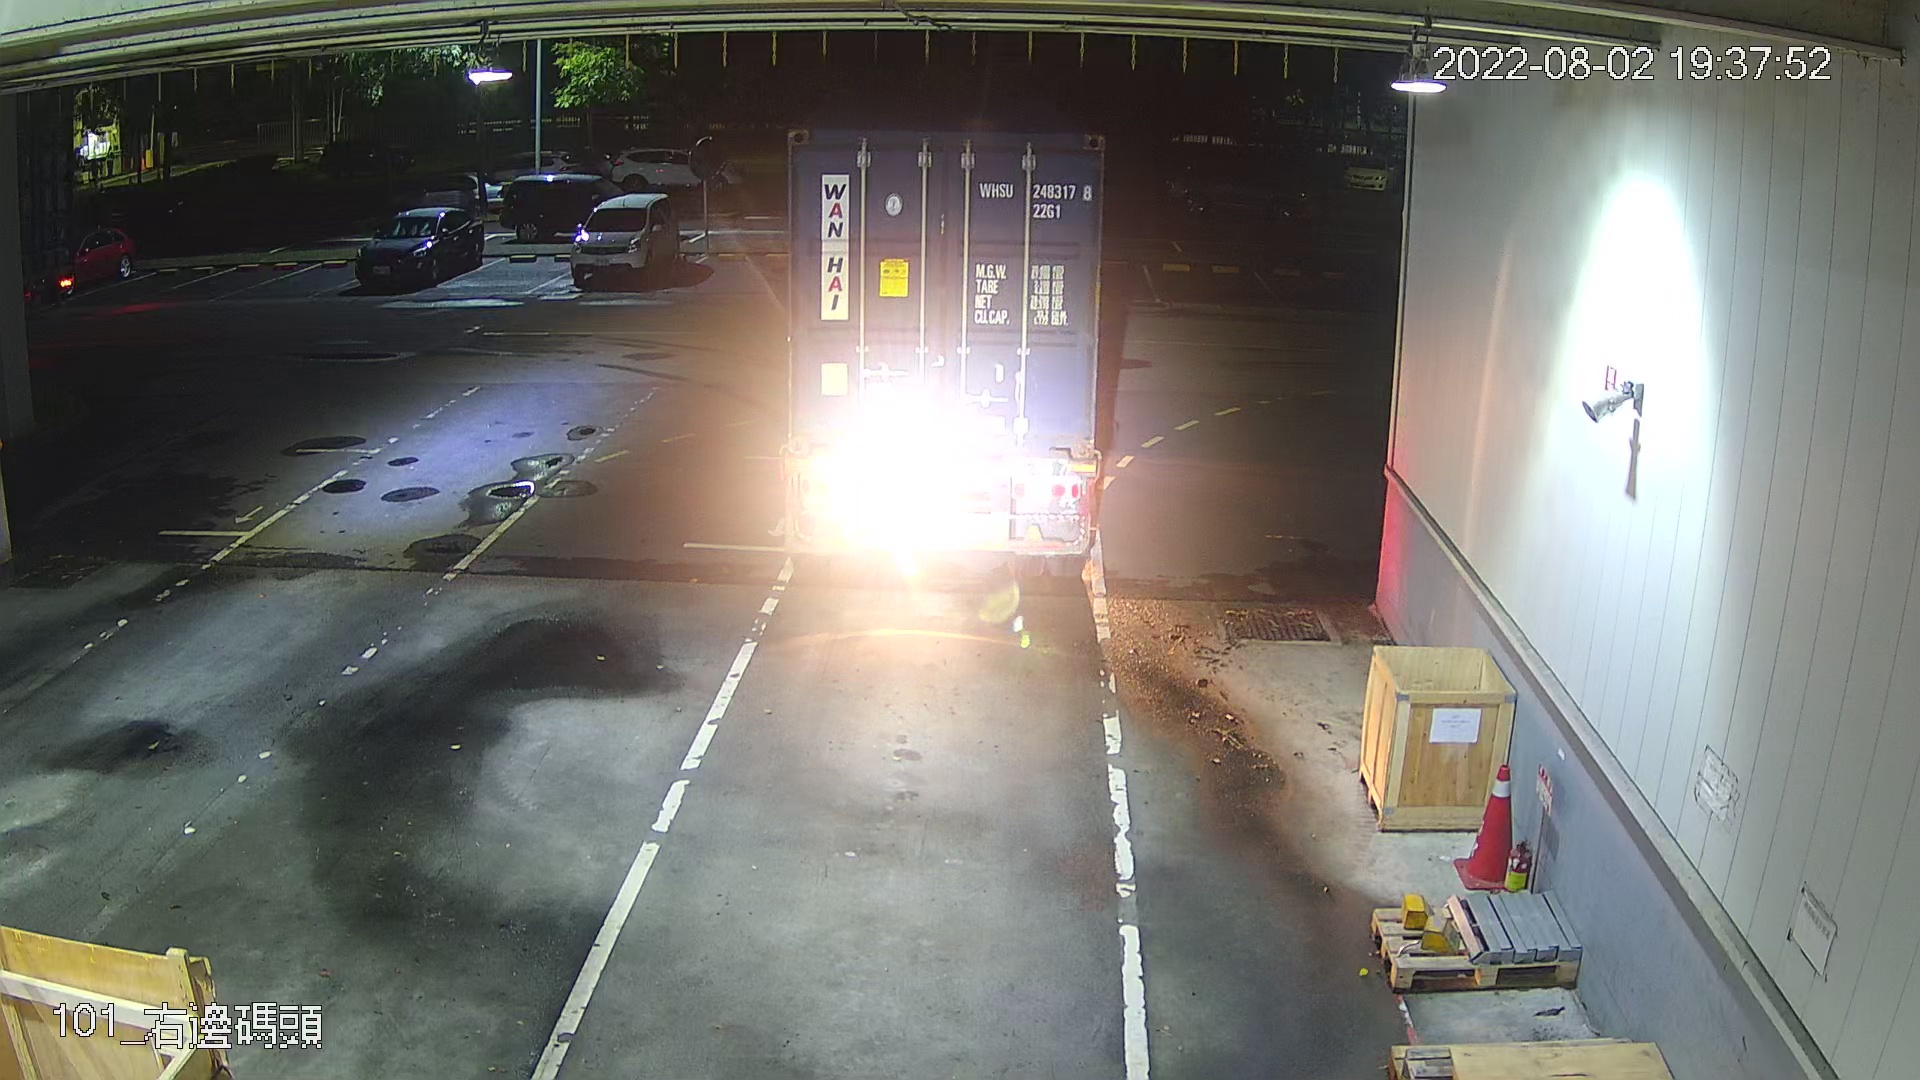container: (972, 174, 1098, 225)
